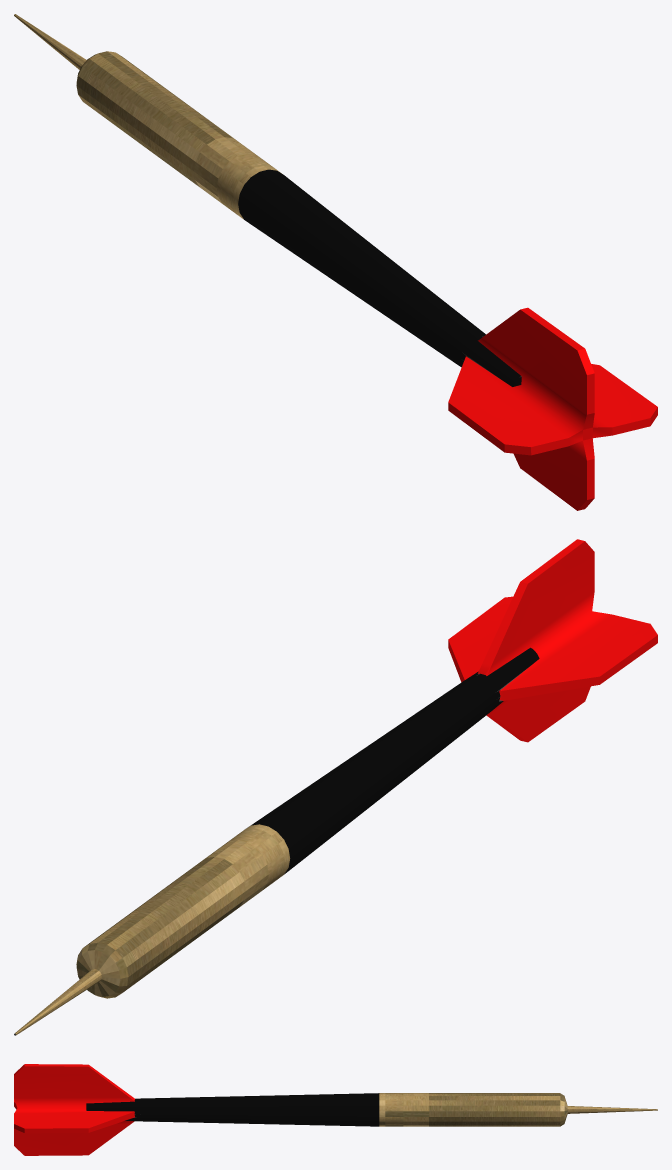
The model's file is dart.glb.
The picture shows the model from 3 angles, top to bottom: view 1: azimuth 30°, elevation 25°; view 2: azimuth 150°, elevation 25°; view 3: azimuth 270°, elevation 25°; orthographic projection. The views are drawn at different scales.
Parts seen in each view (by area): view 1: dart2; view 2: dart2; view 3: dart2.
Part boxes in pixels (bbox=[...]): dart2: bbox=[14, 14, 657, 510]; dart2: bbox=[14, 539, 657, 1035]; dart2: bbox=[14, 1064, 657, 1155].
Size of the model in its own units: 0.1533 by 0.1532 by 0.9967.
4 materials, 2 textured.
